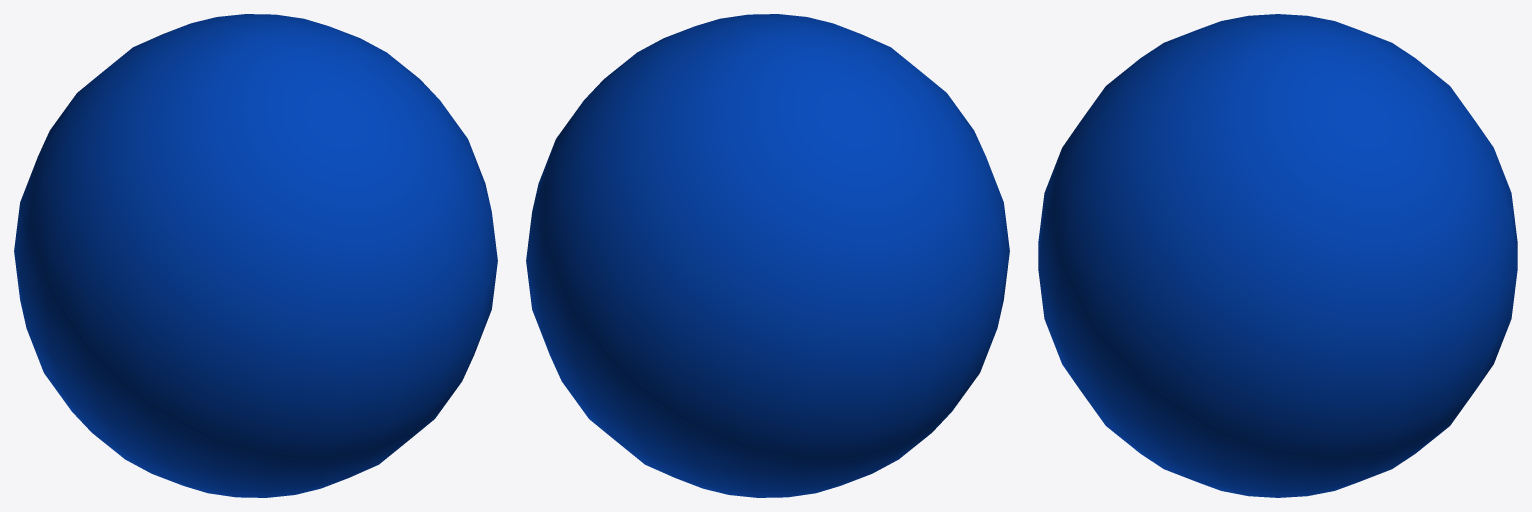
File: SnookerBall_Blue.fbx
3 views of the same model, side by side, from view 1: azimuth 30°, elevation 25°; view 2: azimuth 150°, elevation 25°; view 3: azimuth 270°, elevation 25° (orthographic).
Visible parts, largest first — view 1: SnoookerBall_Blue; view 2: SnoookerBall_Blue; view 3: SnoookerBall_Blue.
Boxes of the visible parts, box(x1,y1,x2,y2) form: SnoookerBall_Blue: box(14, 14, 497, 497); SnoookerBall_Blue: box(526, 14, 1009, 497); SnoookerBall_Blue: box(1038, 14, 1517, 497).
Size of the model in its own units: 0.052 by 0.052 by 0.0515.
1 material, 1 textured.
